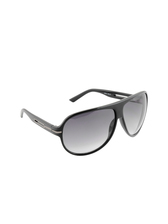glasses: (19, 84, 152, 157)
